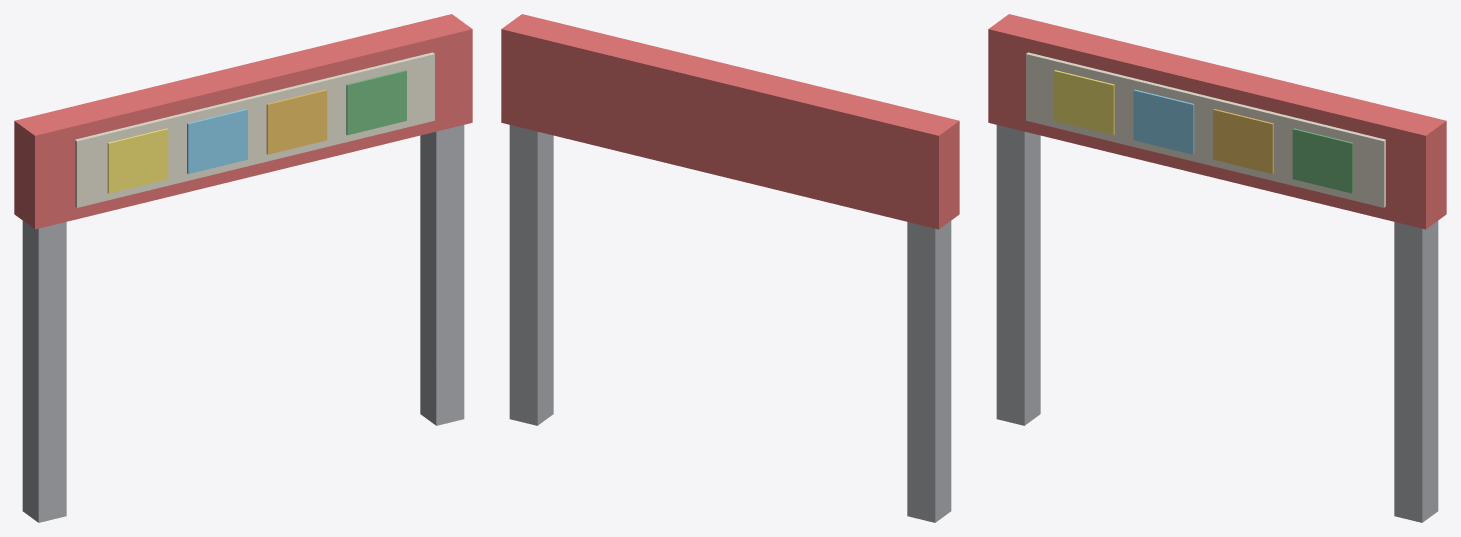
The model's file is lowbar.glb.
3 renders of one model, left to right at view 1: azimuth 30°, elevation 25°; view 2: azimuth 150°, elevation 25°; view 3: azimuth 330°, elevation 25°, orthographic.
Visible parts, largest first — view 1: lowbar; view 2: lowbar; view 3: lowbar.
Part boxes in pixels (x1,y1,x2,y2): lowbar: (14, 14, 472, 522); lowbar: (501, 14, 959, 522); lowbar: (988, 14, 1446, 522).
Bounding box in the file's own units: 2.2 × 1.88 × 0.215.
